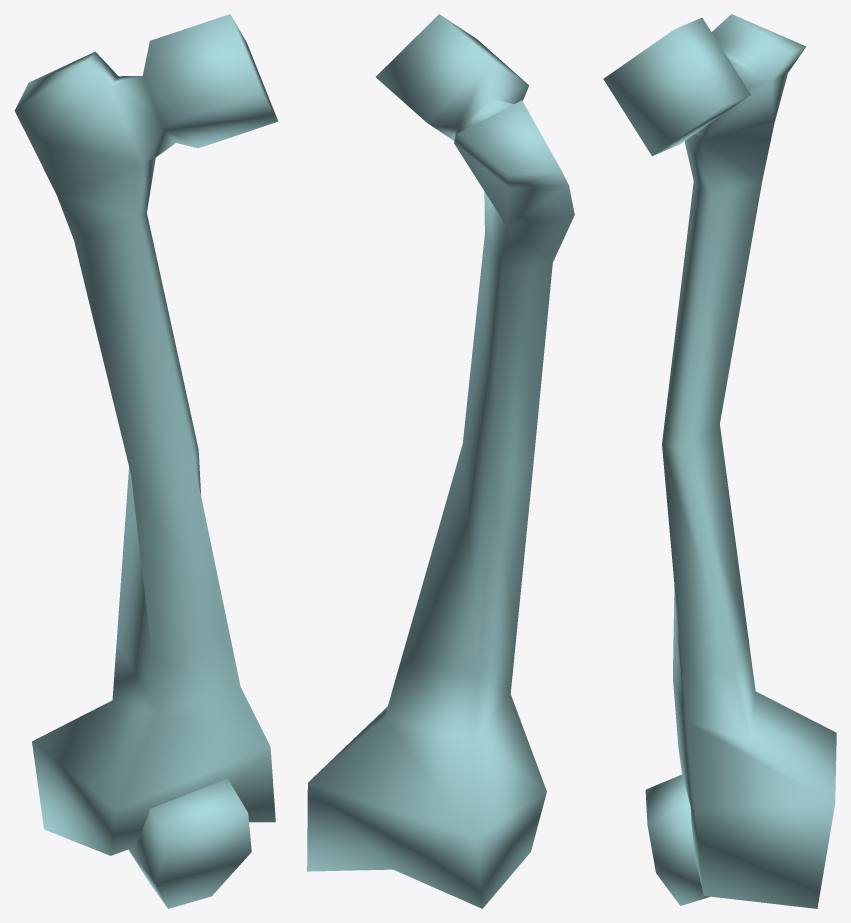
The model's file is Skelly_thigh.R.fbx.
The picture shows the model from 3 angles, left to right: view 1: azimuth 30°, elevation 25°; view 2: azimuth 150°, elevation 25°; view 3: azimuth 270°, elevation 25°; orthographic projection. The views are drawn at different scales.
Parts seen in each view (by area): view 1: Skelly_thigh.R; view 2: Skelly_thigh.R; view 3: Skelly_thigh.R.
Boxes of the visible parts, left/top/right/bottom form: Skelly_thigh.R: left=14, top=14, right=278, bottom=908; Skelly_thigh.R: left=307, top=14, right=574, bottom=908; Skelly_thigh.R: left=603, top=14, right=836, bottom=908.
Bounding box in the file's own units: 14.08 × 50.39 × 12.03.
